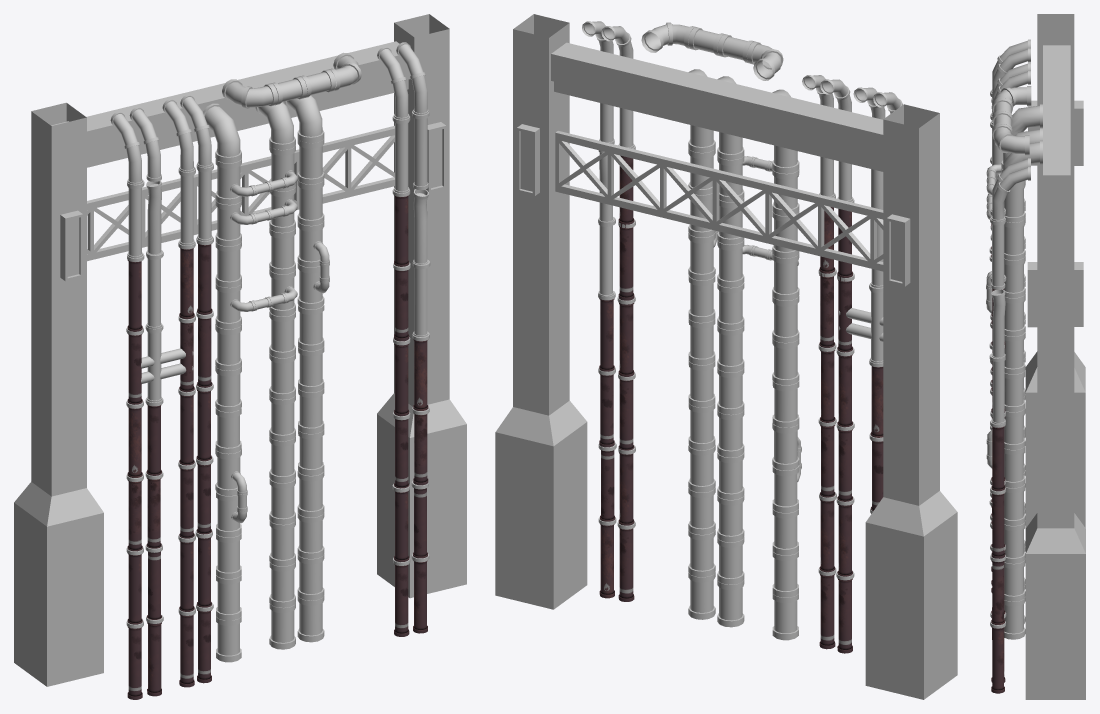
Rendered from Lower_Structure_Elevator_Area.fbx.
The picture shows the model from 3 angles, left to right: view 1: azimuth 30°, elevation 25°; view 2: azimuth 150°, elevation 25°; view 3: azimuth 270°, elevation 25°; orthographic projection. The views are drawn at different scales.
Visible parts, largest first — view 1: Lower_Structure_Column_A001, Medium_Tube001, Small_Tube001, Small_Tube_Curved001, Lower_Structure_Column_Top001, Lower_Structure_Cross_Beams001, Mediuml_Tube_Curved001, Small_Tube_Broken001, Small_Tube_Connector022, Big_Tube_Curved001, Big_Tube001; view 2: Lower_Structure_Column_A001, Medium_Tube001, Small_Tube001, Lower_Structure_Column_Top001, Lower_Structure_Cross_Beams001, Small_Tube_Curved001, Small_Tube_Broken001, Small_Tube_Connector022, Big_Tube_Curved001, Big_Tube001; view 3: Lower_Structure_Column_A001, Medium_Tube001, Small_Tube_Curved001, Lower_Structure_Column_Top001, Small_Tube001, Mediuml_Tube_Curved001, Small_Tube_Broken001, Big_Tube_Curved001, Small_Tube_Connector022, Big_Tube001, Big_Tube_Curved012.
Part boxes in pixels (x1=…): Lower_Structure_Column_A001: x1=14, y1=14, x2=466, y2=686; Medium_Tube001: x1=215, y1=138, x2=329, y2=662; Small_Tube001: x1=127, y1=195, x2=428, y2=699; Small_Tube_Curved001: x1=110, y1=42, x2=428, y2=328; Lower_Structure_Column_Top001: x1=51, y1=41, x2=410, y2=167; Lower_Structure_Cross_Beams001: x1=87, y1=125, x2=394, y2=261; Mediuml_Tube_Curved001: x1=203, y1=95, x2=329, y2=523; Small_Tube_Broken001: x1=141, y1=180, x2=428, y2=402; Small_Tube_Connector022: x1=126, y1=111, x2=430, y2=628; Big_Tube_Curved001: x1=222, y1=52, x2=361, y2=108; Big_Tube001: x1=271, y1=69, x2=336, y2=104; Lower_Structure_Column_A001: x1=495, y1=14, x2=957, y2=699; Medium_Tube001: x1=688, y1=125, x2=801, y2=640; Small_Tube001: x1=599, y1=155, x2=883, y2=653; Lower_Structure_Column_Top001: x1=551, y1=42, x2=883, y2=171; Lower_Structure_Cross_Beams001: x1=555, y1=131, x2=883, y2=271; Small_Tube_Curved001: x1=582, y1=21, x2=902, y2=287; Small_Tube_Broken001: x1=598, y1=150, x2=883, y2=363; Small_Tube_Connector022: x1=598, y1=145, x2=883, y2=580; Big_Tube_Curved001: x1=641, y1=22, x2=783, y2=80; Big_Tube001: x1=688, y1=27, x2=754, y2=63; Lower_Structure_Column_A001: x1=1025, y1=14, x2=1085, y2=699; Medium_Tube001: x1=986, y1=153, x2=1025, y2=639; Small_Tube_Curved001: x1=991, y1=39, x2=1030, y2=289; Lower_Structure_Column_Top001: x1=1043, y1=45, x2=1070, y2=175; Small_Tube001: x1=991, y1=224, x2=1005, y2=693; Mediuml_Tube_Curved001: x1=986, y1=104, x2=1042, y2=468; Small_Tube_Broken001: x1=991, y1=105, x2=1005, y2=424; Big_Tube_Curved001: x1=992, y1=86, x2=1031, y2=145; Small_Tube_Connector022: x1=989, y1=90, x2=1006, y2=628; Big_Tube001: x1=992, y1=98, x2=1012, y2=132; Big_Tube_Curved012: x1=992, y1=126, x2=1029, y2=155.
Bounding box in the file's own units: 47.65 × 10.78 × 62.84.
